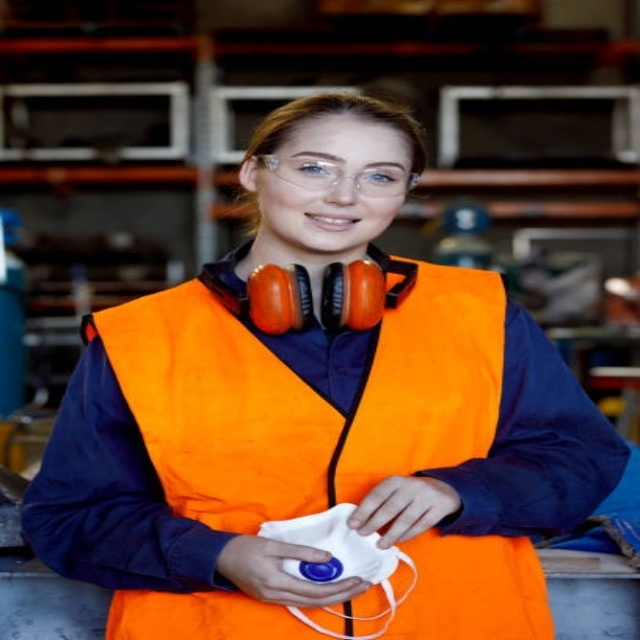Gafas: (258, 155, 419, 197)
Sin_guantes: (222, 531, 378, 608), (351, 468, 458, 549)
Sin_mascara: (292, 208, 372, 242)
